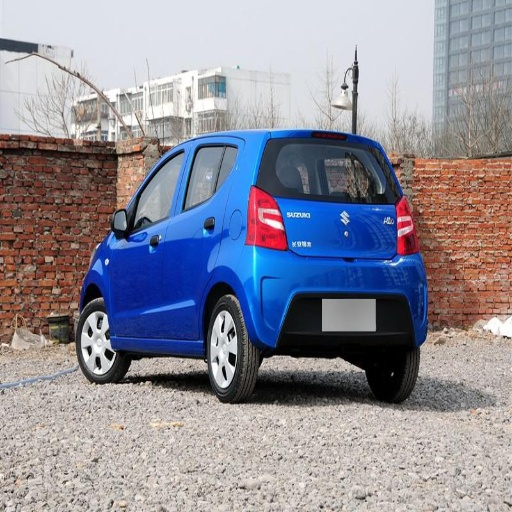back_bumper: (242, 249, 424, 354)
back_glass: (259, 140, 392, 202)
back_left_door: (162, 141, 227, 338)
trunk: (284, 201, 397, 293)
